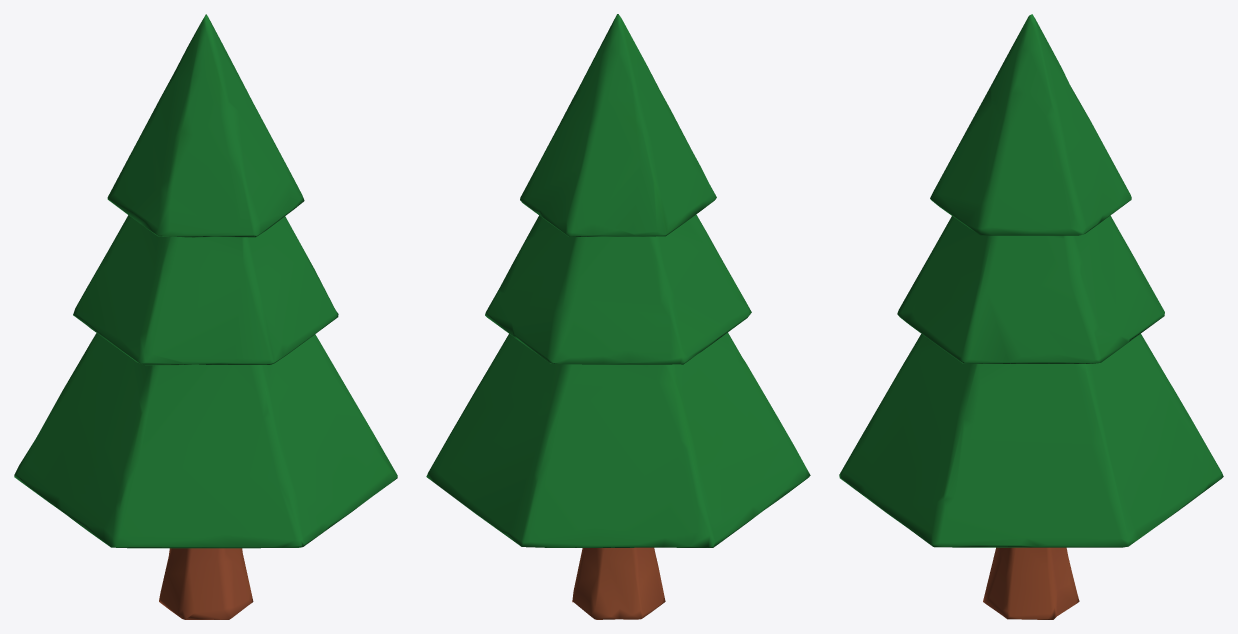
Rendered from gen3d-fir-tree-lod0.glb.
3 renders of one model, left to right at view 1: azimuth 30°, elevation 25°; view 2: azimuth 150°, elevation 25°; view 3: azimuth 270°, elevation 25°, orthographic.
Visible parts, largest first — view 1: part_0; view 2: part_0; view 3: part_0.
Part boxes in pixels (x1=…): part_0: x1=14, y1=14, x2=397, y2=619; part_0: x1=426, y1=14, x2=810, y2=619; part_0: x1=839, y1=14, x2=1223, y2=619.
Bounding box in the file's own units: 0.5109 × 0.9991 × 0.5908.
